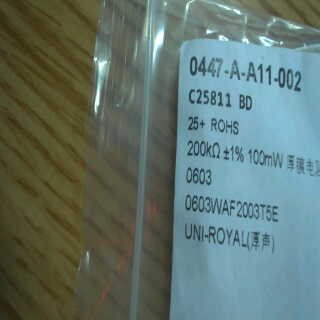200kR: (185, 135, 223, 159)
